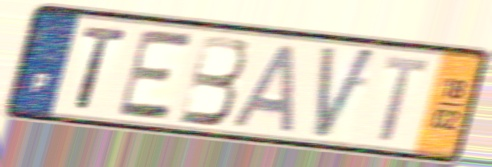A: (228, 41, 299, 135)
B: (175, 32, 249, 129)
E: (115, 29, 195, 123)
T: (376, 52, 433, 145), (72, 23, 130, 113)
V: (312, 42, 380, 145)
